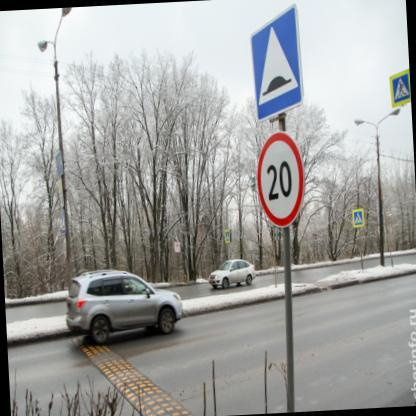road_sign: (251, 5, 301, 119), (257, 132, 304, 226), (388, 69, 410, 109), (352, 209, 365, 227)
